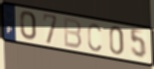0: (19, 10, 39, 42), (108, 25, 125, 57)
5: (129, 28, 149, 63)
7: (42, 12, 59, 46)
B: (62, 17, 83, 51)
C: (86, 22, 102, 53)
